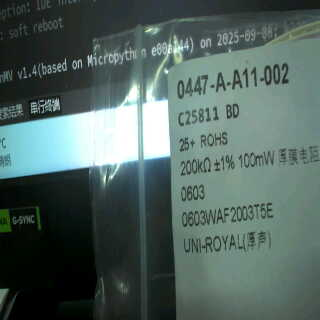200kR: (178, 153, 213, 178)
